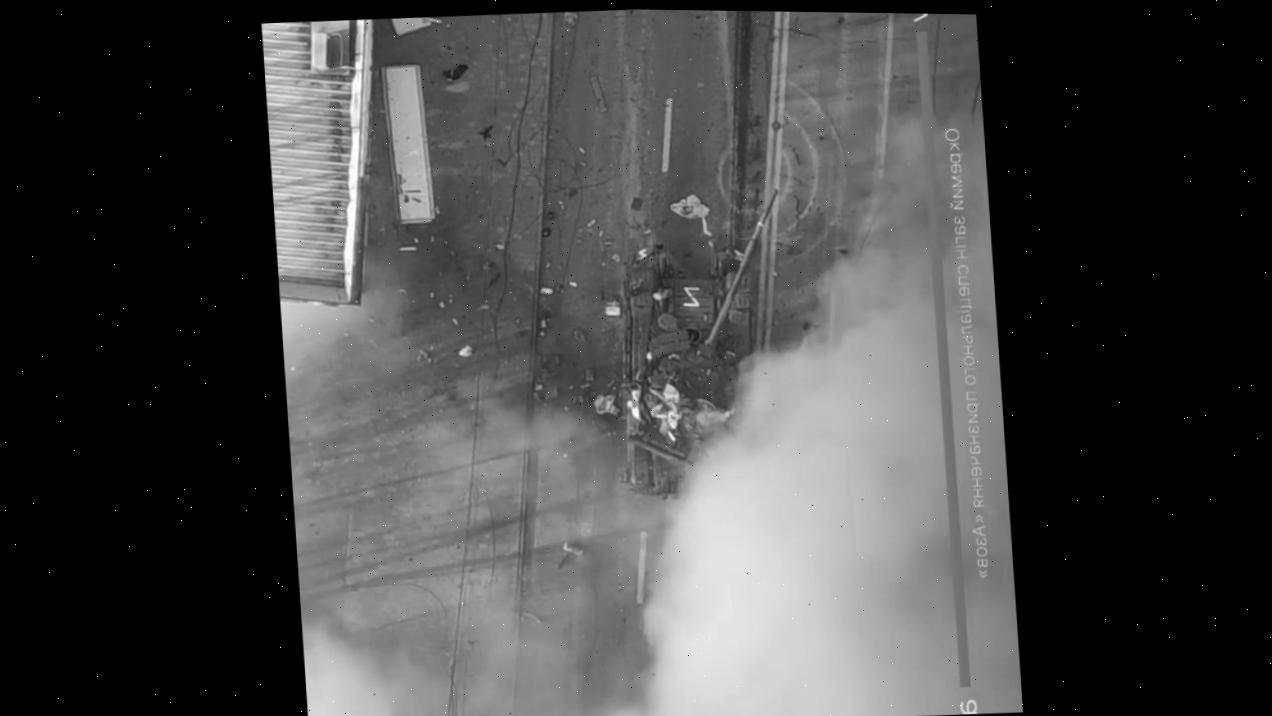tank: (600, 186, 799, 504)
